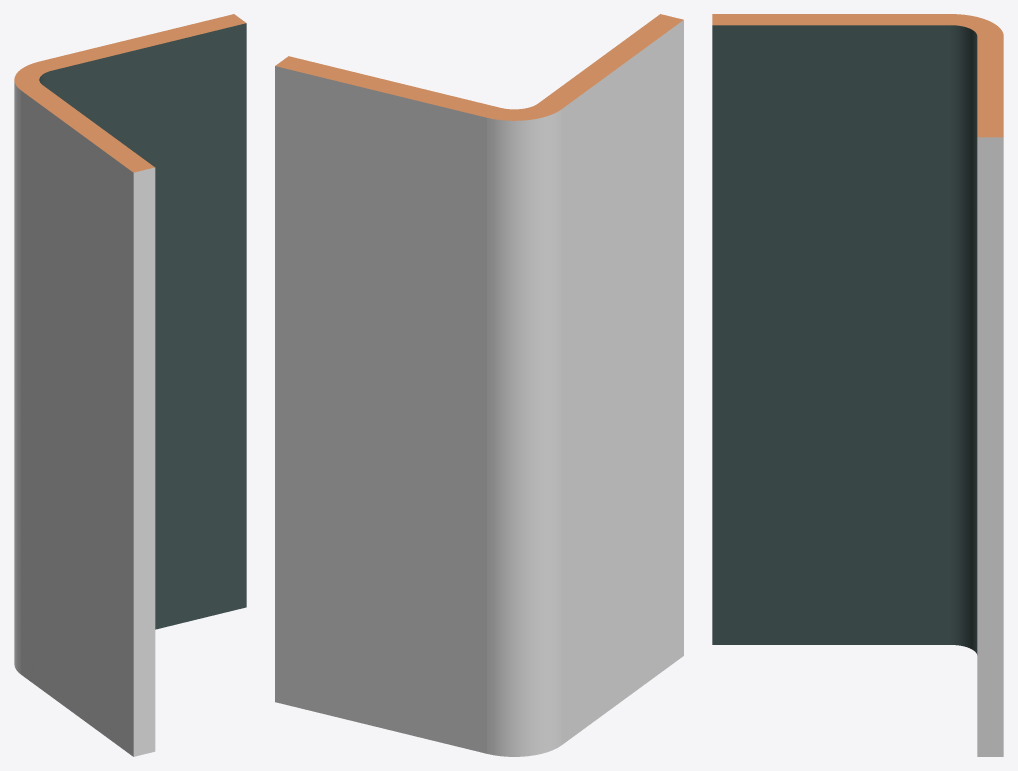
Rendered from wallCornerRond.fbx.
3 renders of one model, left to right at view 1: azimuth 30°, elevation 25°; view 2: azimuth 150°, elevation 25°; view 3: azimuth 270°, elevation 25°, orthographic. The views are drawn at different scales.
Parts seen in each view (by area): view 1: wallCornerRond; view 2: wallCornerRond; view 3: wallCornerRond.
Part boxes in pixels (x1,y1,x2,y2): wallCornerRond: [14, 14, 246, 756]; wallCornerRond: [275, 14, 683, 756]; wallCornerRond: [712, 14, 1003, 756].
Bounding box in the file's own units: 5.5 × 12.9 × 5.5.
